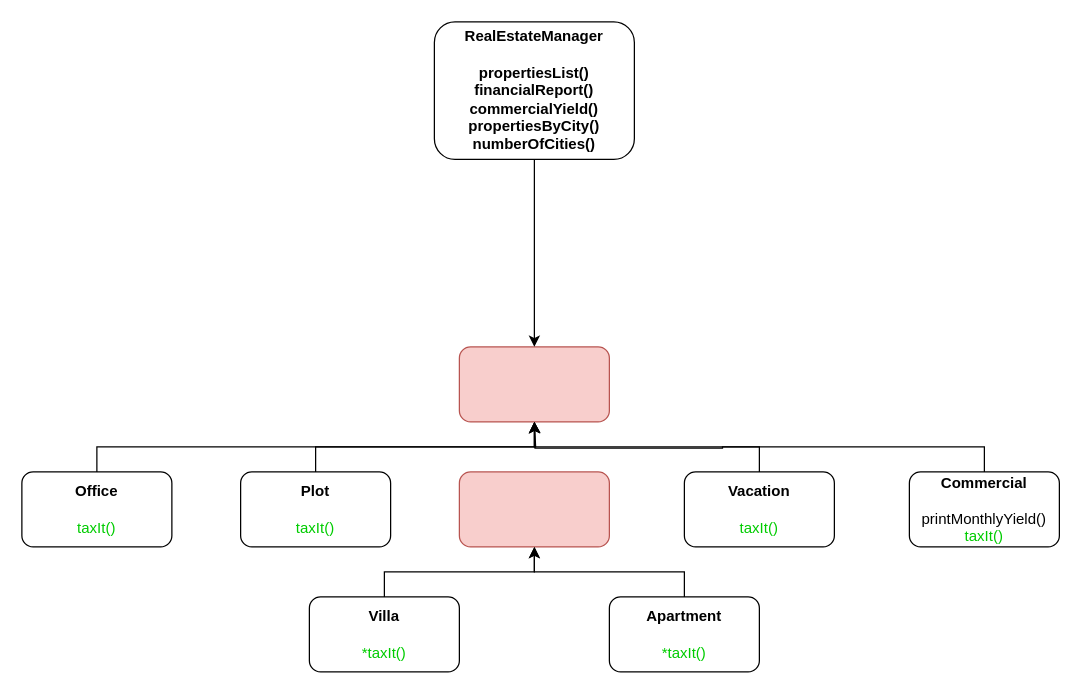
Some shapes in this 1081 by 694 pixel diagram are drawn without their labels. The centre of each missing label's shape, as x and y in pixels:
Property taxIt(): the point at 533,384
Residential taxIt(): the point at 533,509
